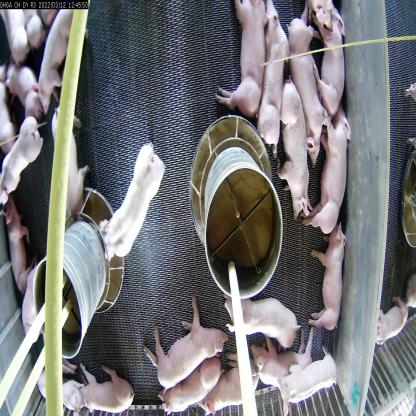Pig: (100, 145, 164, 260), (33, 6, 98, 106), (284, 13, 326, 164), (302, 112, 351, 240), (144, 307, 229, 376), (221, 0, 270, 111), (306, 223, 346, 331), (52, 100, 89, 216), (228, 290, 298, 351), (203, 344, 262, 415), (280, 82, 314, 202), (260, 2, 286, 155), (249, 340, 315, 398), (317, 4, 349, 117), (283, 350, 332, 416), (162, 353, 213, 416), (3, 57, 42, 125), (0, 119, 38, 188), (77, 365, 130, 411), (2, 206, 27, 288)
